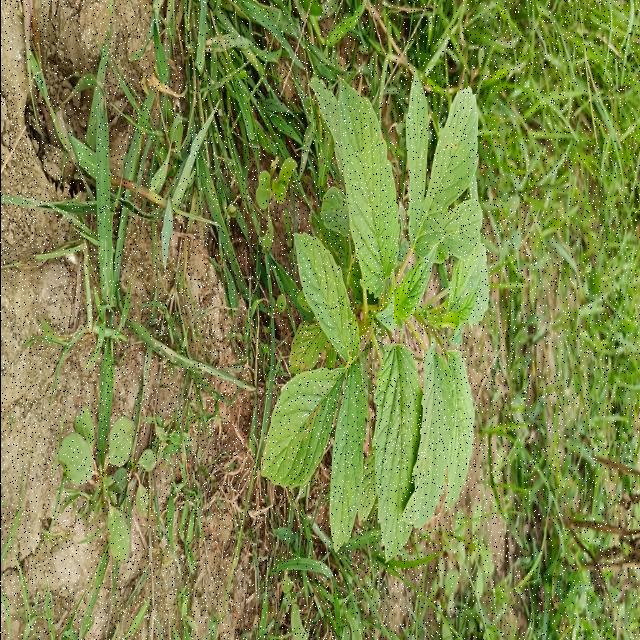plant: (261, 77, 488, 562)
